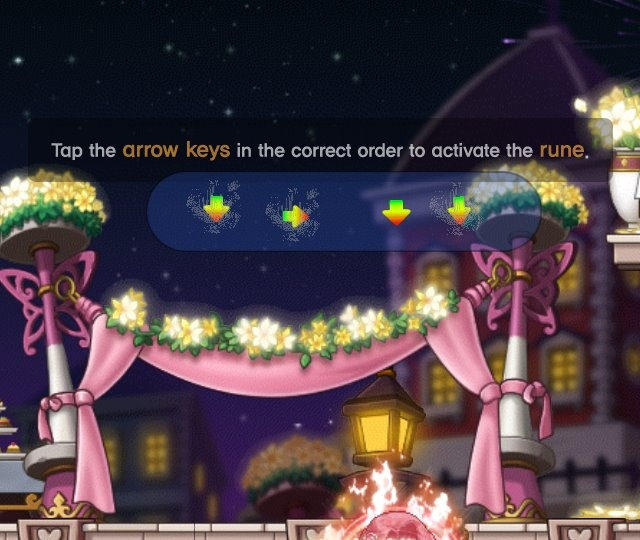down: (375, 191, 417, 232), (195, 187, 235, 226), (442, 192, 479, 234)
right: (276, 200, 316, 236)
